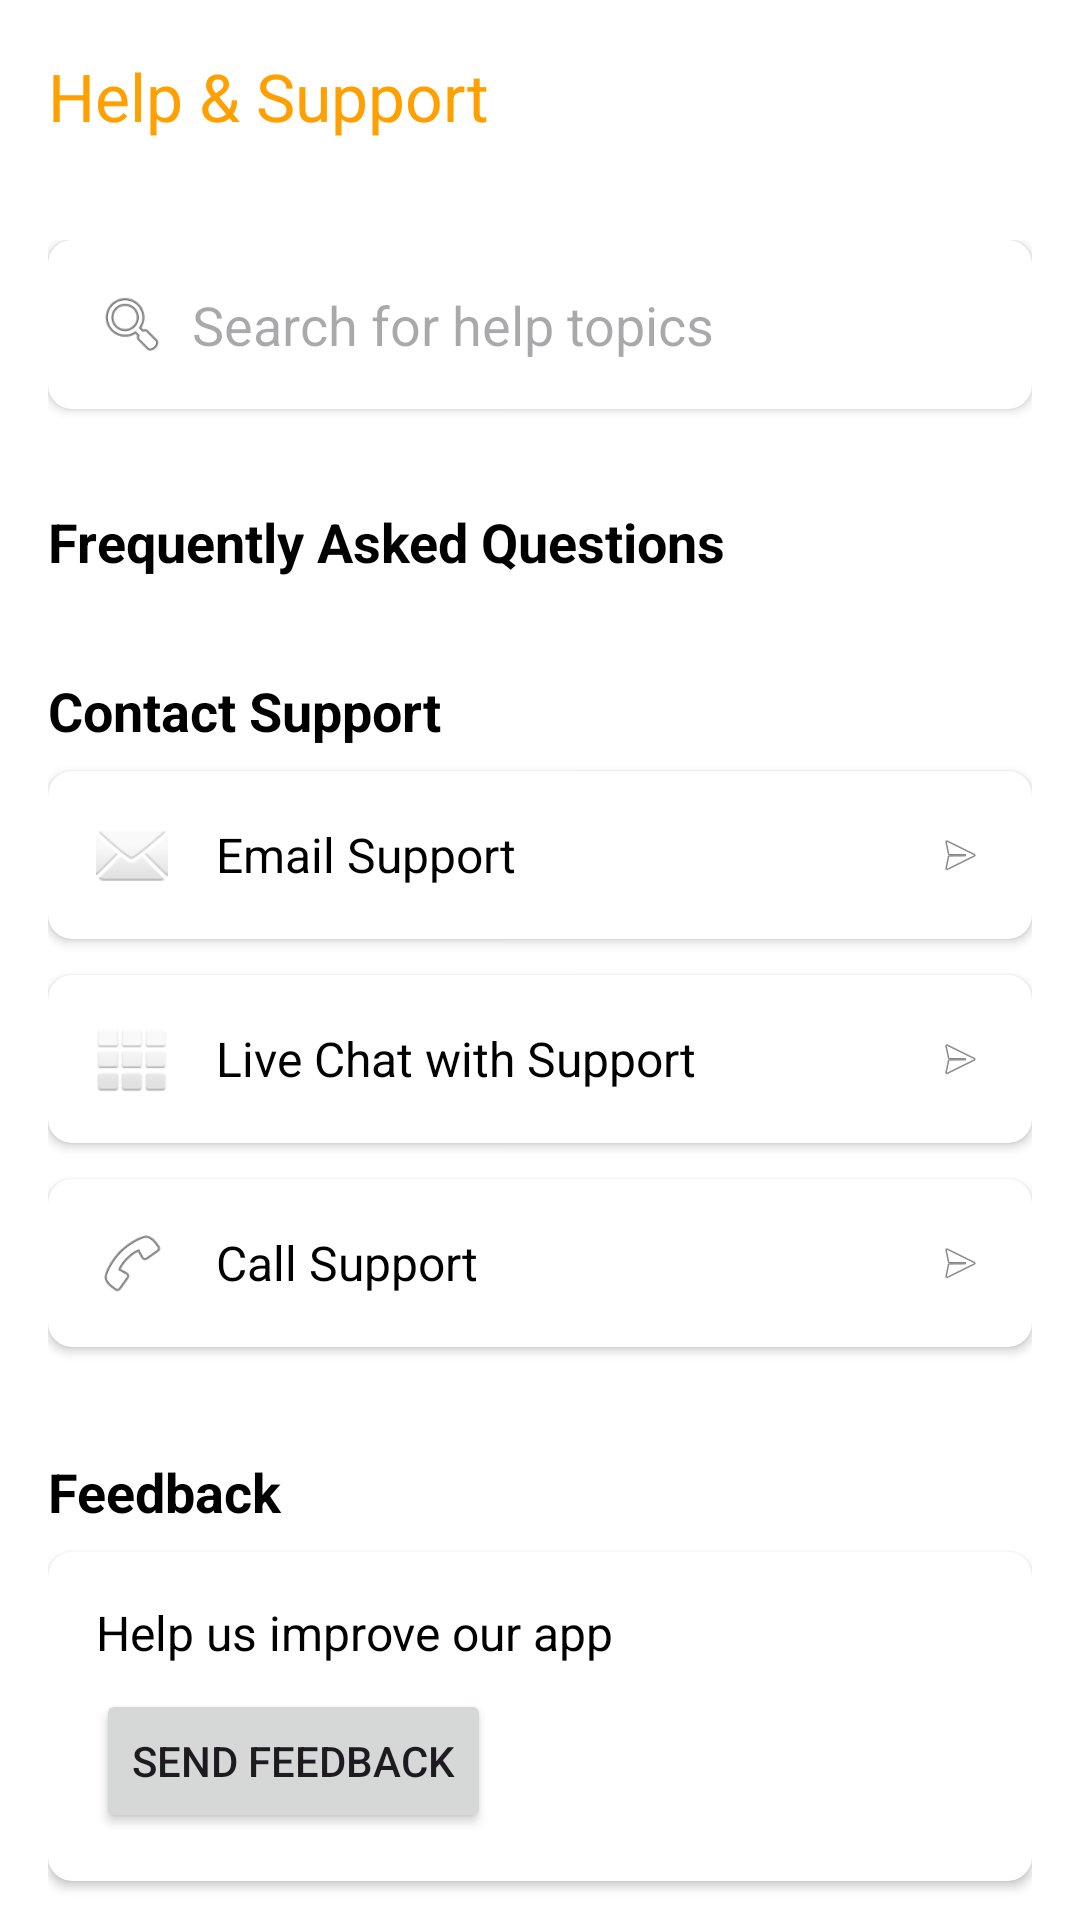

Point at icon controls on the screen. Image size 1080 × 1920, points as point (x, y).
Go: point (960, 855), point (960, 1059), point (960, 1263)
